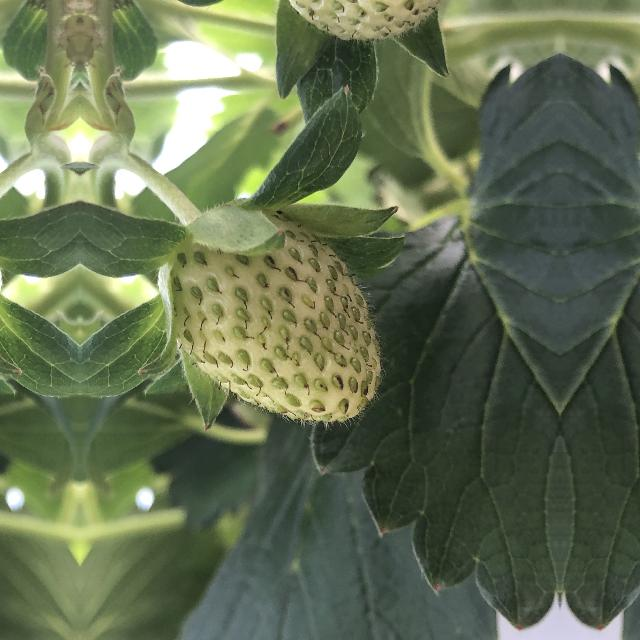Health_25: (154, 200, 392, 428)
